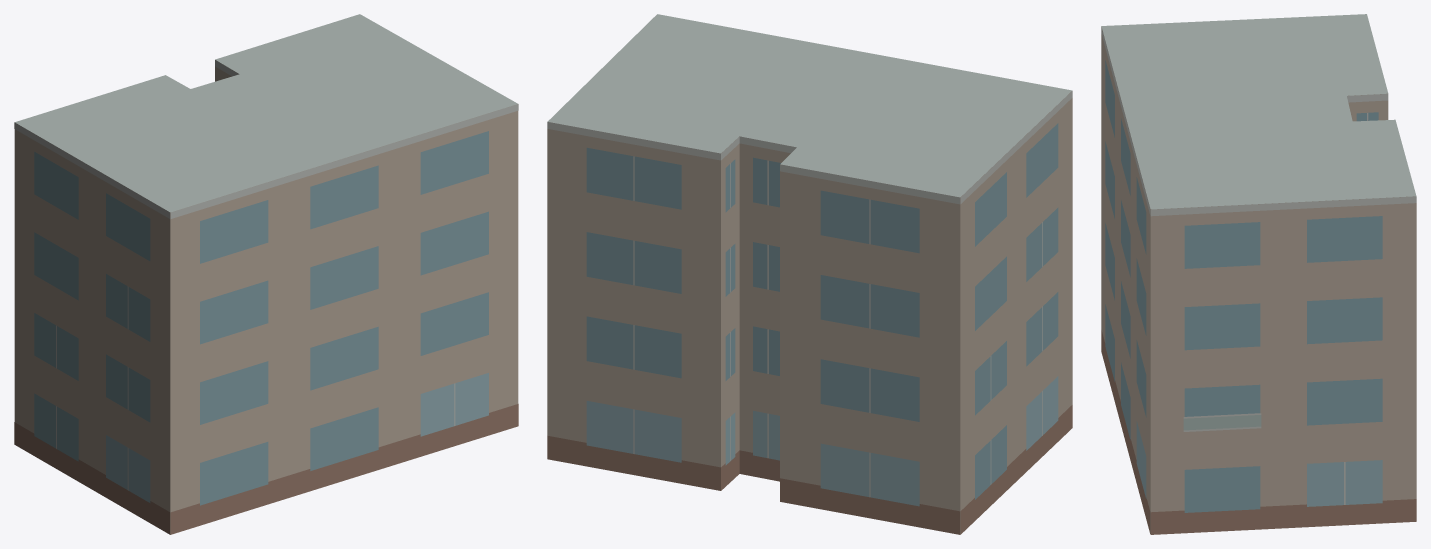
Rendered from survey-upis-32746282.glb.
3 renders of one model, left to right at view 1: azimuth 30°, elevation 25°; view 2: azimuth 150°, elevation 25°; view 3: azimuth 270°, elevation 25°, orthographic. The views are drawn at different scales.
Visible parts, largest first — view 1: survey-upis-32746282.tmp; view 2: survey-upis-32746282.tmp; view 3: survey-upis-32746282.tmp.
Part boxes in pixels (bbox=[...]): survey-upis-32746282.tmp: bbox=[14, 14, 518, 534]; survey-upis-32746282.tmp: bbox=[547, 14, 1072, 534]; survey-upis-32746282.tmp: bbox=[1101, 14, 1416, 534].
Size of the model in its own units: 15.08 by 11.7 by 10.28.
